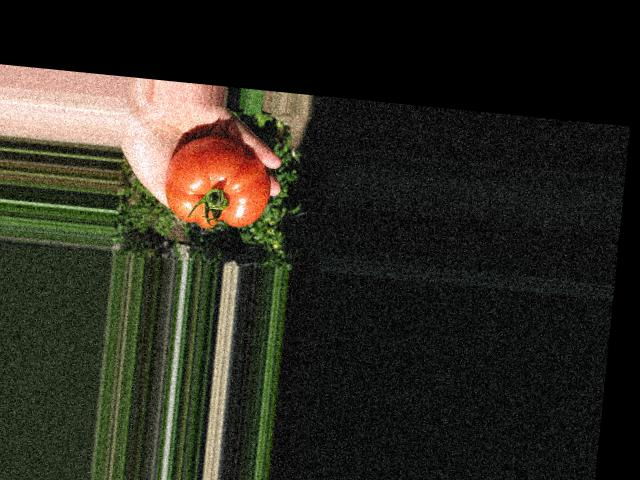tomato: (162, 133, 275, 233)
